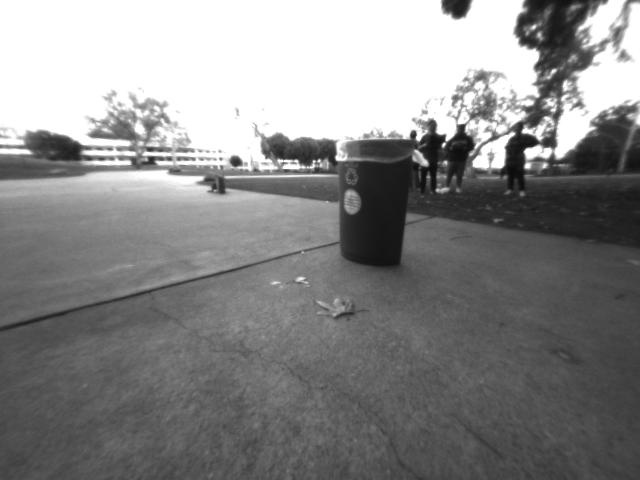trashcan_open: (333, 136, 413, 271)
